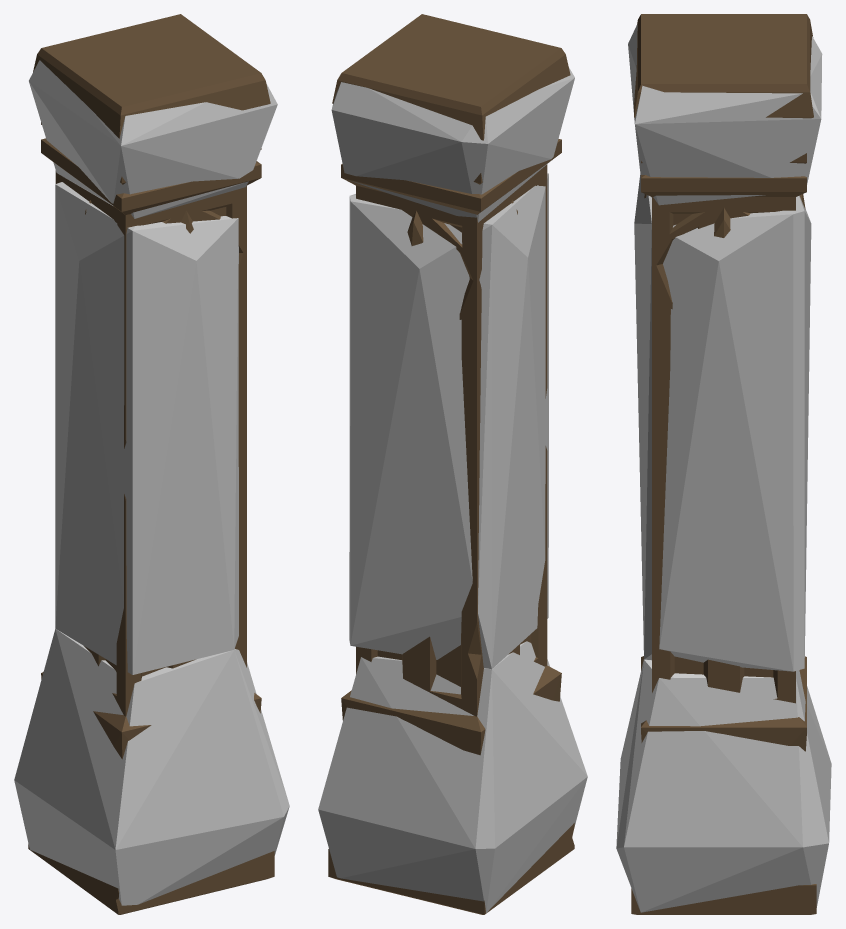
File: SM_Bld_Pillar_02.fbx
The picture shows the model from 3 angles, left to right: view 1: azimuth 30°, elevation 25°; view 2: azimuth 150°, elevation 25°; view 3: azimuth 270°, elevation 25°; orthographic projection. The views are drawn at different scales.
Parts seen in each view (by area): view 1: SM_Bld_Pillar_02_ConvexHulls, SM_Bld_Pillar_02; view 2: SM_Bld_Pillar_02_ConvexHulls, SM_Bld_Pillar_02; view 3: SM_Bld_Pillar_02_ConvexHulls, SM_Bld_Pillar_02.
Boxes of the visible parts, bbox=[...] form: SM_Bld_Pillar_02_ConvexHulls: bbox=[14, 60, 289, 905]; SM_Bld_Pillar_02: bbox=[28, 14, 274, 914]; SM_Bld_Pillar_02_ConvexHulls: bbox=[318, 68, 587, 912]; SM_Bld_Pillar_02: bbox=[328, 14, 574, 914]; SM_Bld_Pillar_02_ConvexHulls: bbox=[616, 24, 831, 912]; SM_Bld_Pillar_02: bbox=[631, 14, 816, 914].
Size of the model in its own units: 70.53 by 70.7 by 301.
2 materials, 1 textured.
